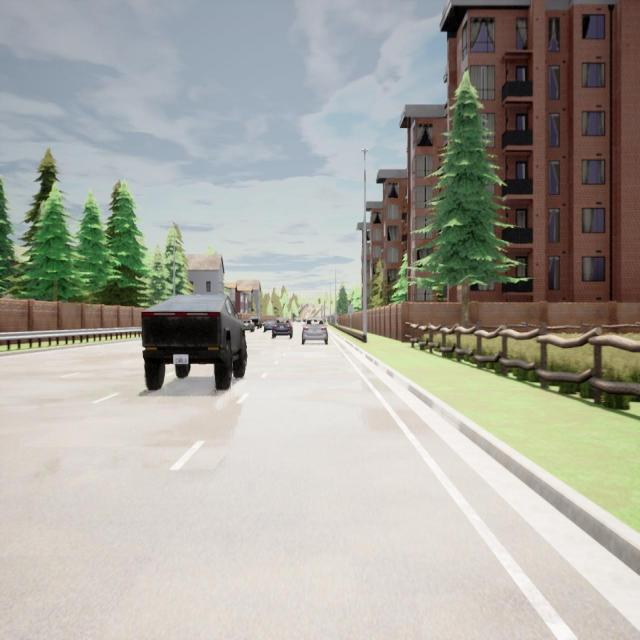Traffic_Signs: (348, 306, 354, 314)
Vehicle: (140, 293, 248, 391), (302, 318, 328, 345), (271, 318, 293, 339), (249, 316, 262, 329), (263, 320, 277, 332), (242, 320, 255, 332)
